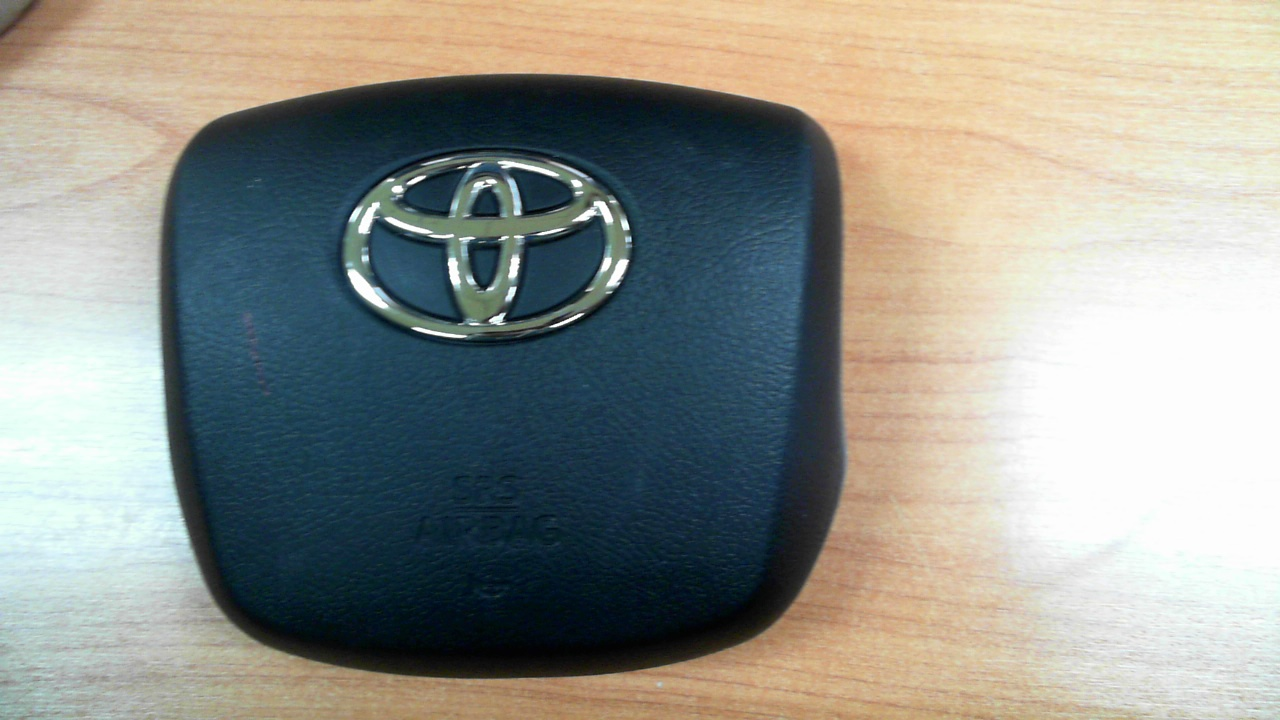Airbag: (157, 73, 846, 682)
Toyota: (341, 151, 633, 341)
